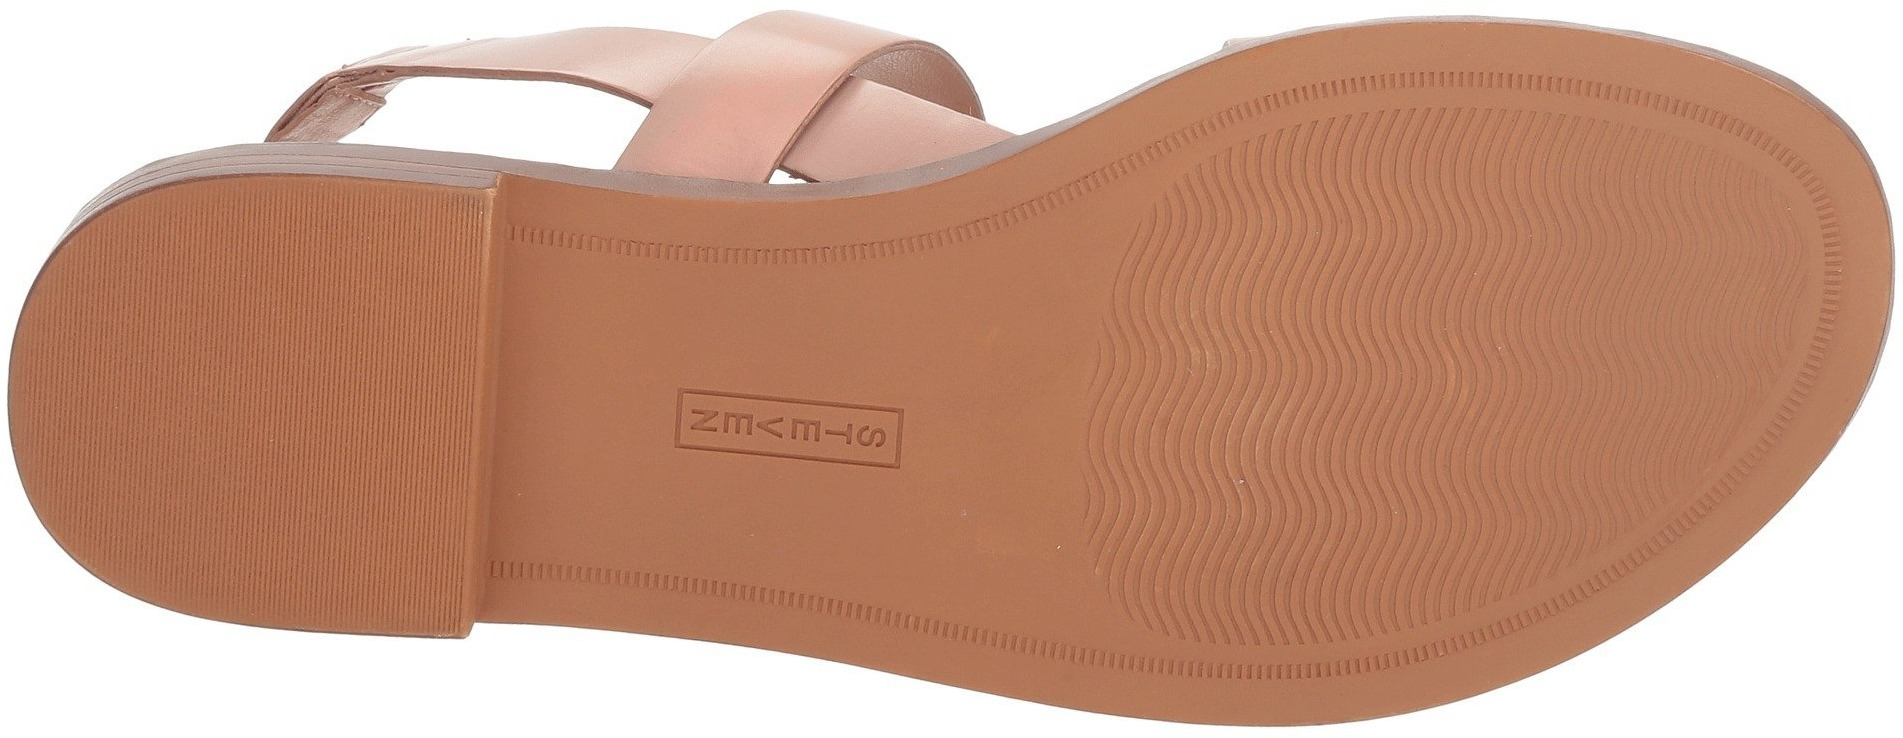chevron: (1053, 91, 1822, 649)
line: (10, 176, 485, 645)
quad: (664, 379, 925, 488)
